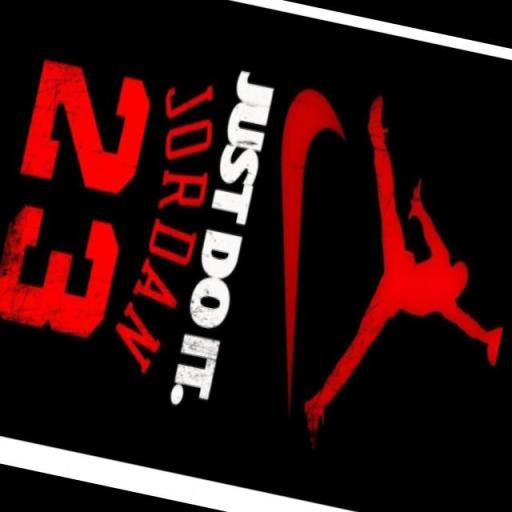Nike: (216, 78, 362, 424)
